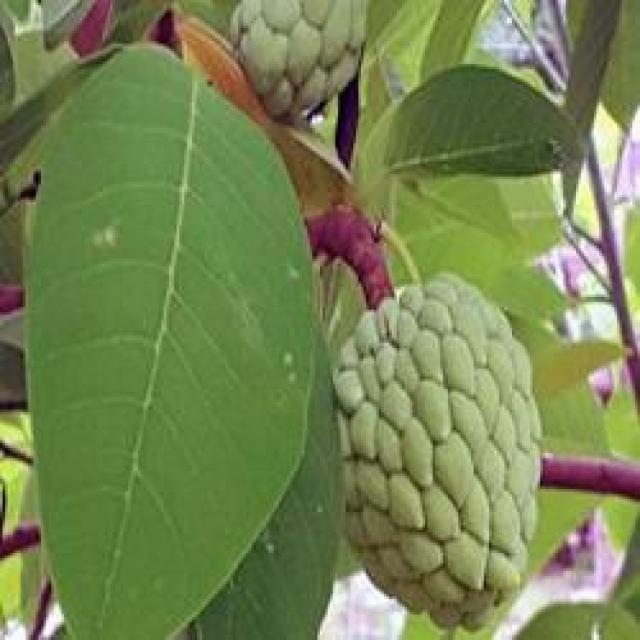apple: (333, 264, 548, 630)
